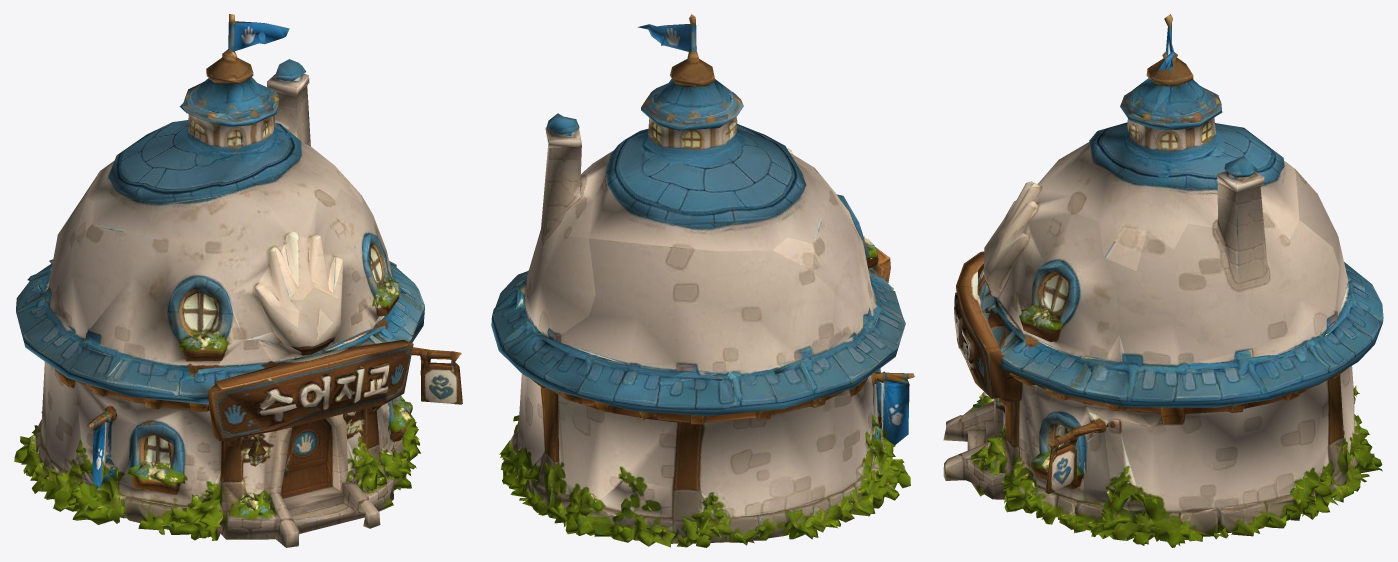
File: project-sign-language.glb
3 renders of one model, left to right at view 1: azimuth 30°, elevation 25°; view 2: azimuth 150°, elevation 25°; view 3: azimuth 270°, elevation 25°, orthographic.
Visible parts, largest first — view 1: Mesh1.0; view 2: Mesh1.0; view 3: Mesh1.0.
Boxes of the visible parts, x1=… form: Mesh1.0: x1=14, y1=14, x2=462, y2=547; Mesh1.0: x1=491, y1=14, x2=914, y2=547; Mesh1.0: x1=943, y1=14, x2=1383, y2=547.
Bounding box in the file's own units: 1.64 × 1.9 × 1.7.
1 material, 1 textured.
